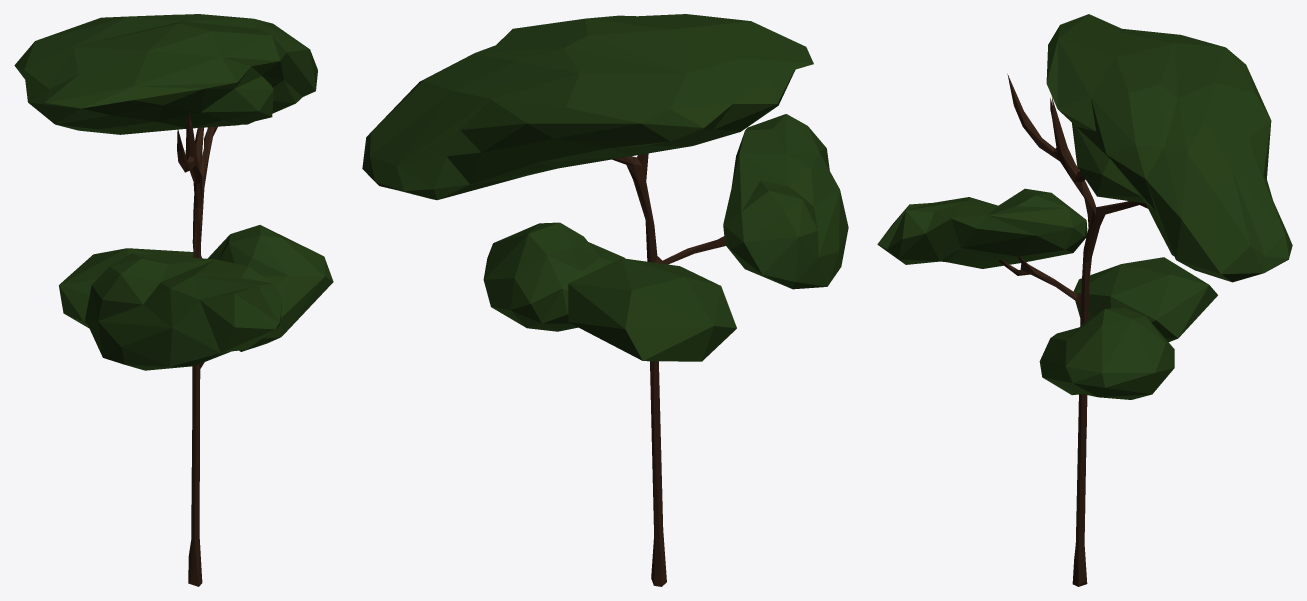
File: SM_tree_jungle_12.fbx
3 renders of one model, left to right at view 1: azimuth 30°, elevation 25°; view 2: azimuth 150°, elevation 25°; view 3: azimuth 270°, elevation 25°, orthographic. The views are drawn at different scales.
Visible parts, largest first — view 1: Object136; view 2: Object136; view 3: Object136.
Boxes of the visible parts, x1,y1,x2,y2 form: Object136: [14, 14, 333, 586]; Object136: [362, 14, 848, 586]; Object136: [877, 14, 1292, 586].
Bounding box in the file's own units: 316 × 466 × 342.
